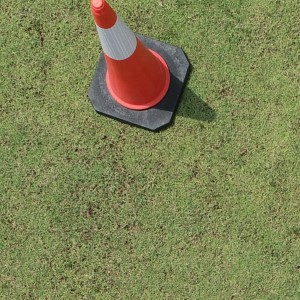traffic cone: (87, 1, 190, 131)
